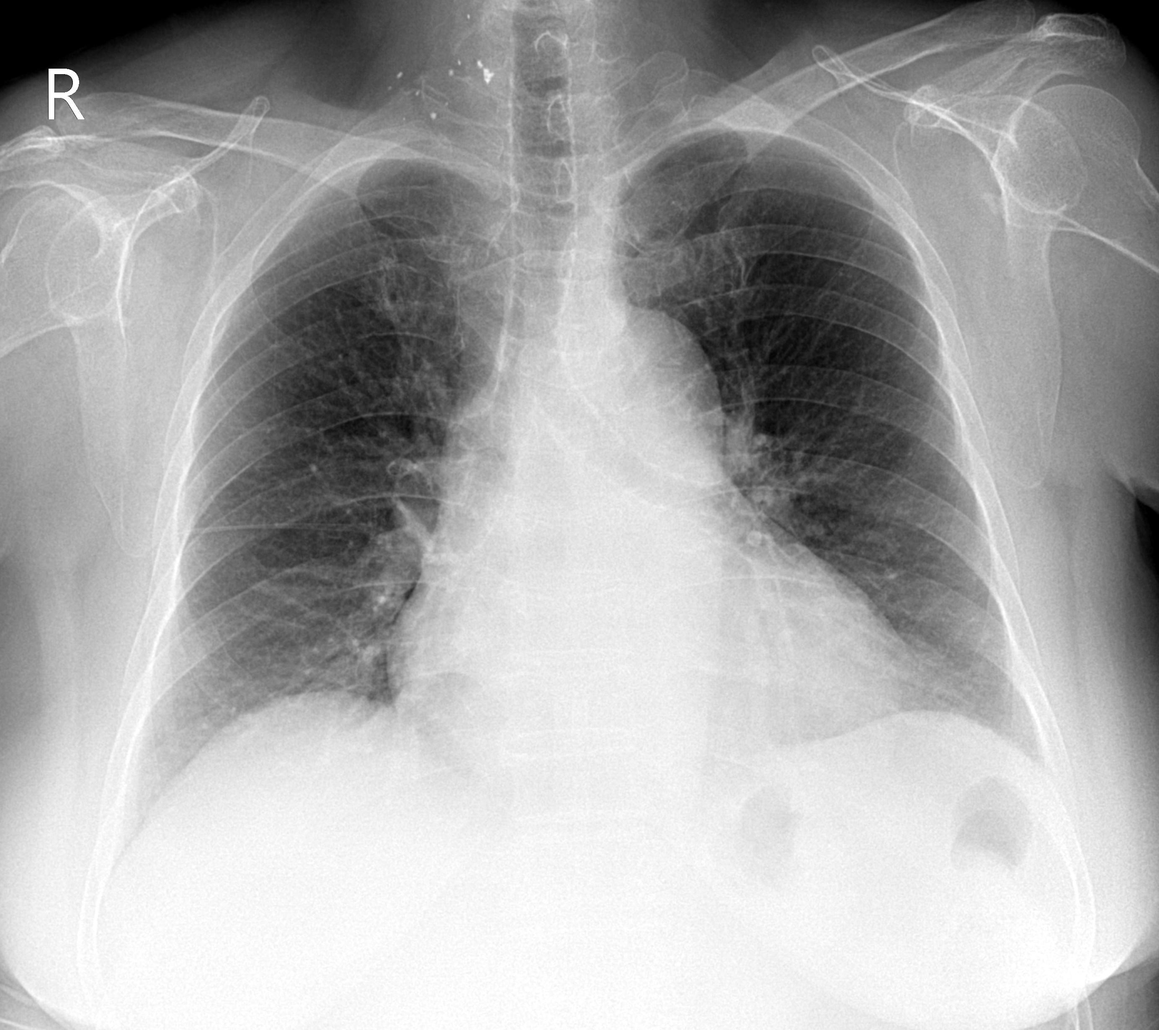Aortic enlargement: (543, 311, 724, 479)
Cardiomegaly: (380, 601, 928, 747)
